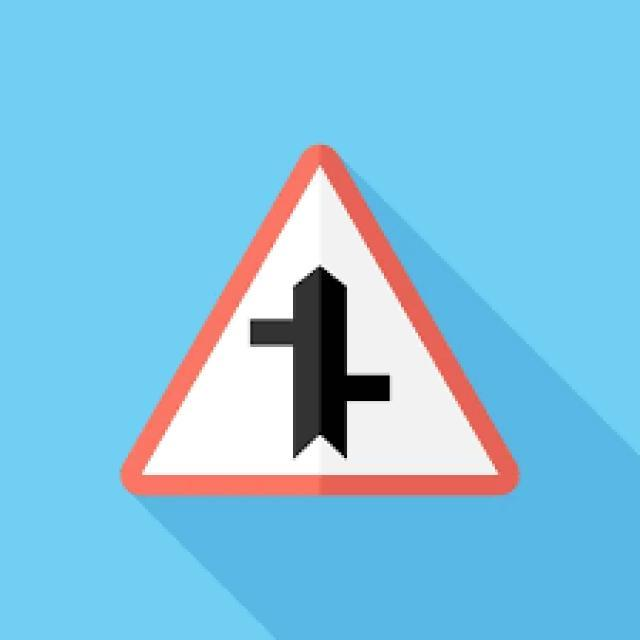staggered intersection: (118, 138, 519, 497)
